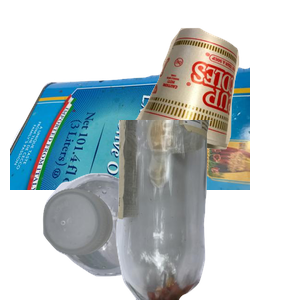glass: (113, 120, 300, 300)
metal: (10, 64, 250, 244)
plastic: (40, 170, 187, 300)
trash: (133, 25, 300, 167)
